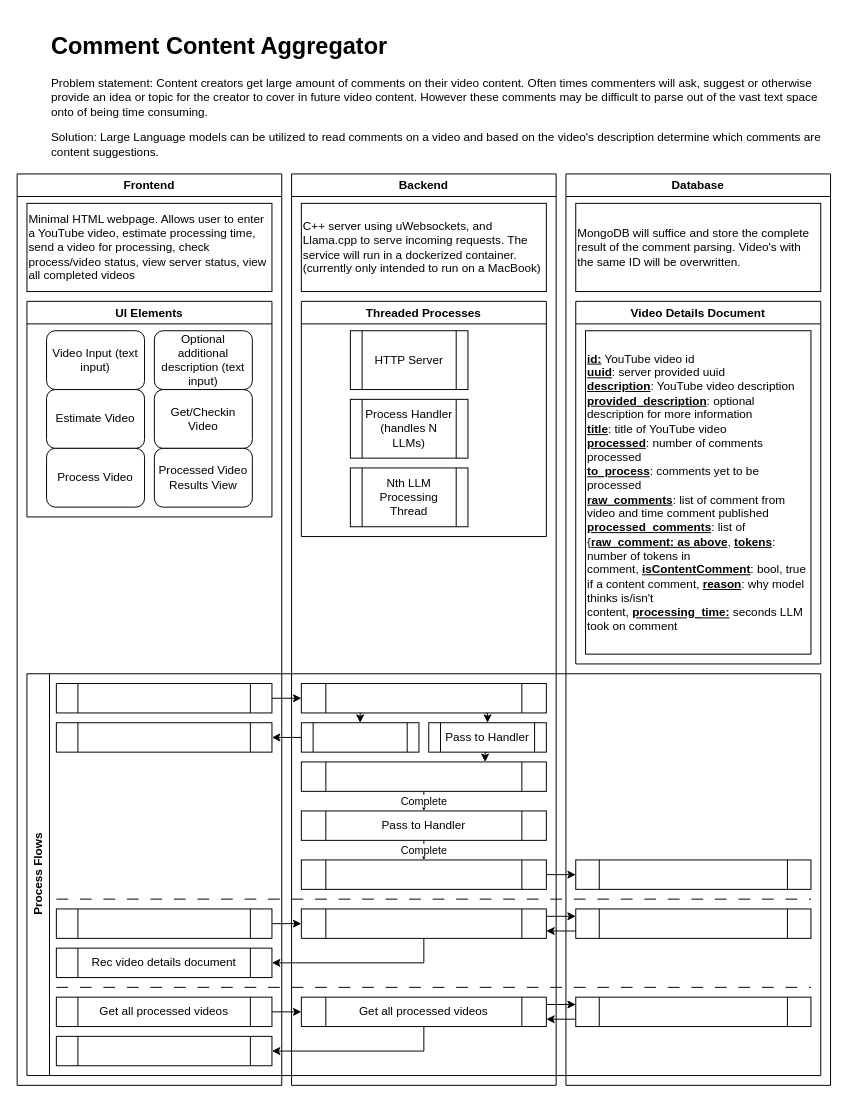
Some shapes in this 848 by 1103 pixel diagram are drawn without their labels. The centre of each missing label's shape, as x and y in pixels:
Check Handler Data Map & DB: [423,923]
Checkin UUID & ID: [163,923]
Create/Overwrite document id: [693,874]
Estimate: [359,737]
Find all documents: [693,1011]
LLM process comments: [423,776]
Rec all processed videos: [163,1050]
Rec checkin UUID and estimate: [163,737]
Retrieve all comments: [423,698]
Search document by id: [693,923]
Store to DB: [423,874]
Submit YouTube link: [163,698]
